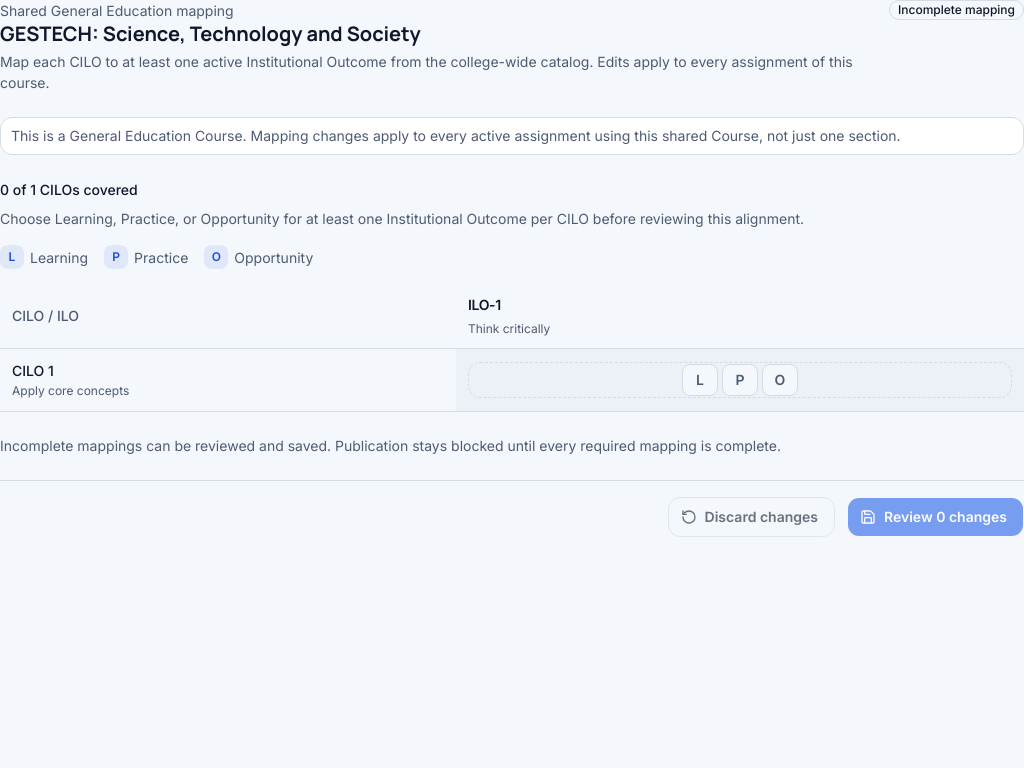
Test case: CourseAlignmentEditor › requires confirmation before discarding a staged draft
Click the button named "CILO 1, ILO 1, manifestation: Learning": coordinates (700, 380) 682,364 -> 718,396
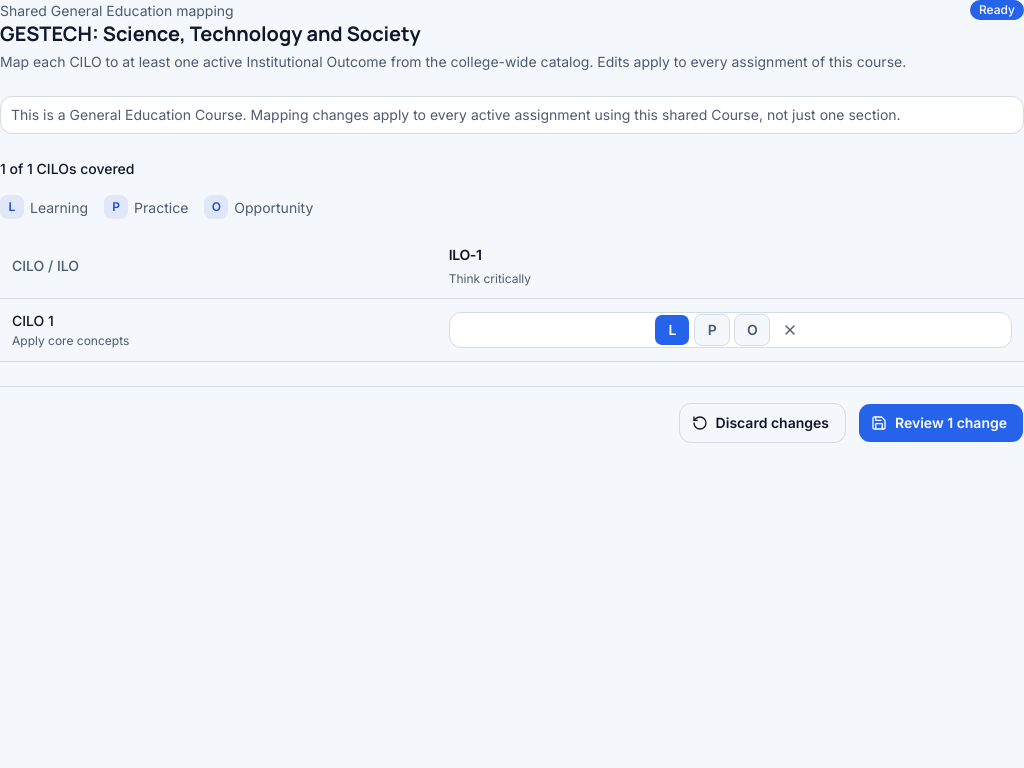
Click the button "Discard changes": coordinates (762, 422) 679,402 -> 846,442
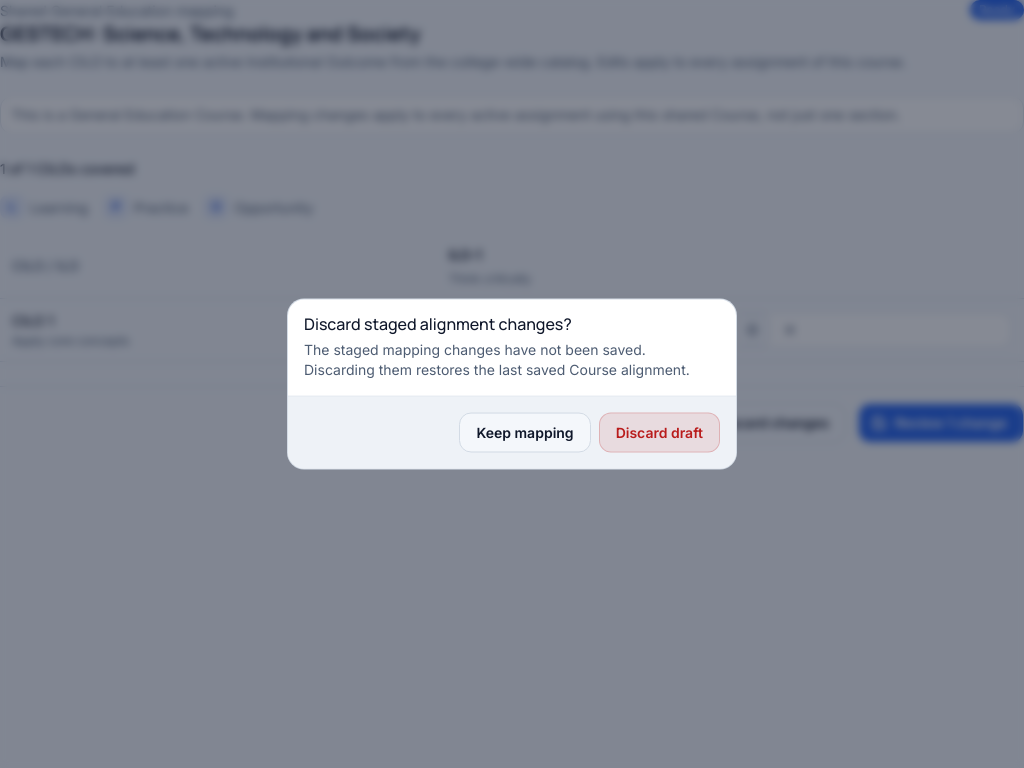
Now the heading "Discard staged alignment changes?" is shown, box 304,312 -> 572,334
Click the button "Discard draft": coordinates (659, 432) 599,412 -> 720,452
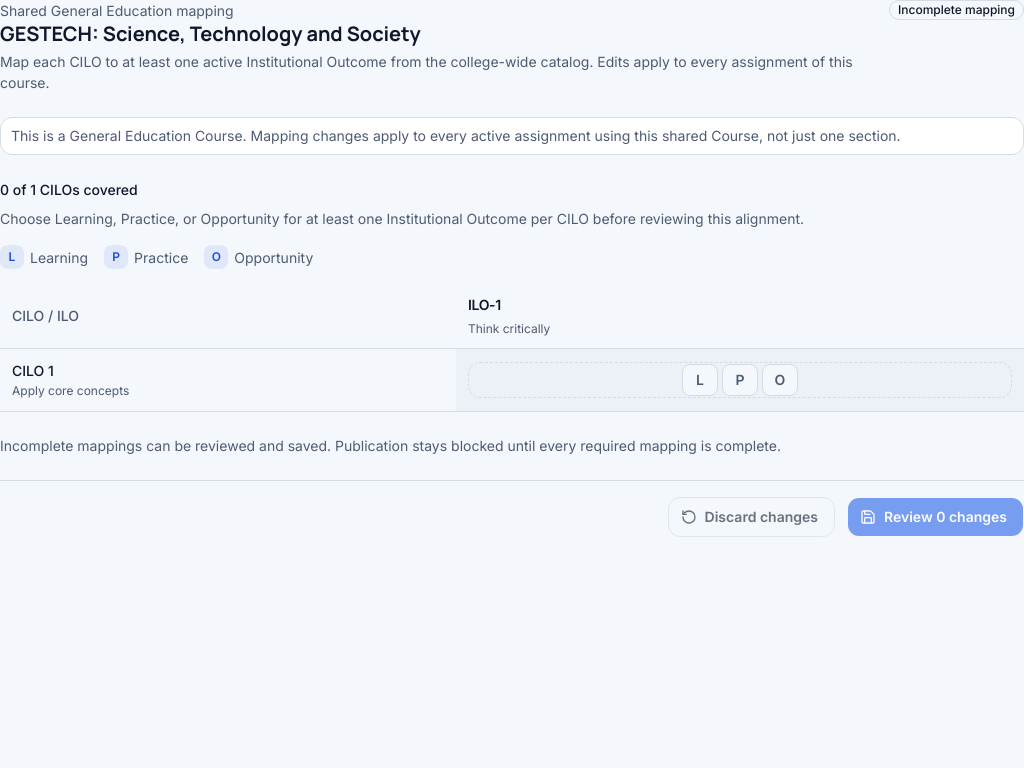
Now the button "Discard changes" is disabled, box 668,496 -> 835,536
